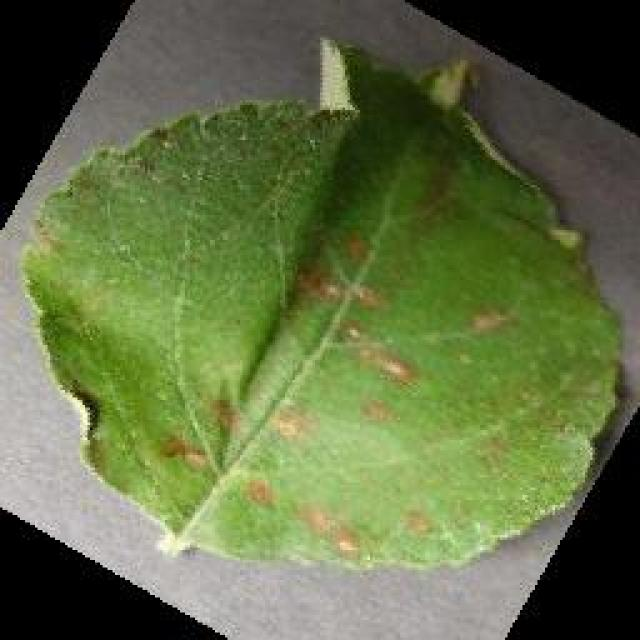apple cedar apple rust: (18, 35, 628, 575)
